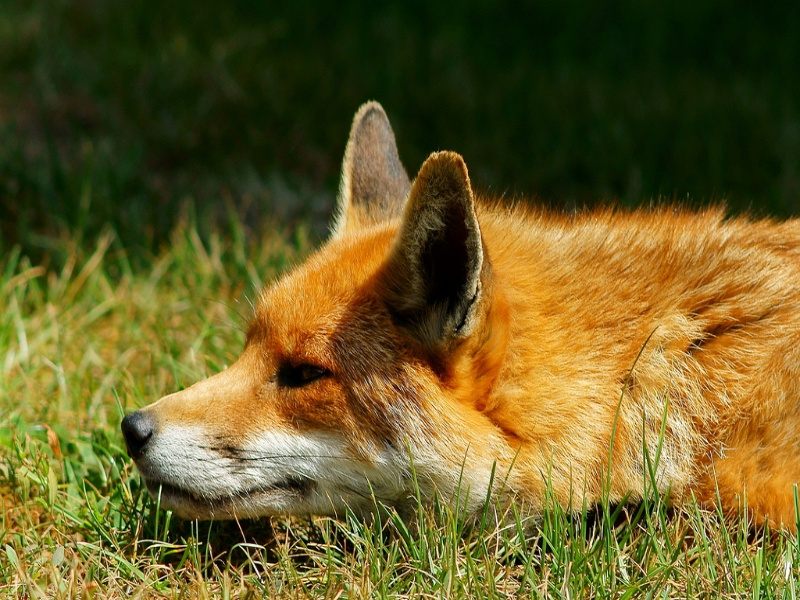fox: (111, 98, 800, 550)
